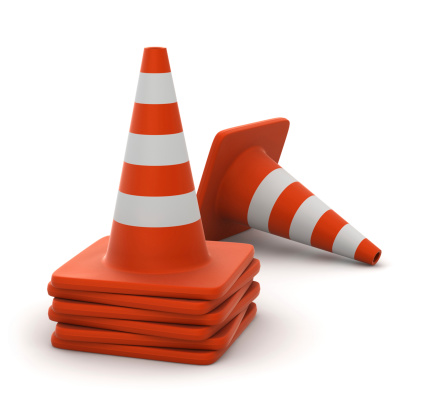trafficcone: (47, 46, 259, 366), (197, 116, 382, 267)
